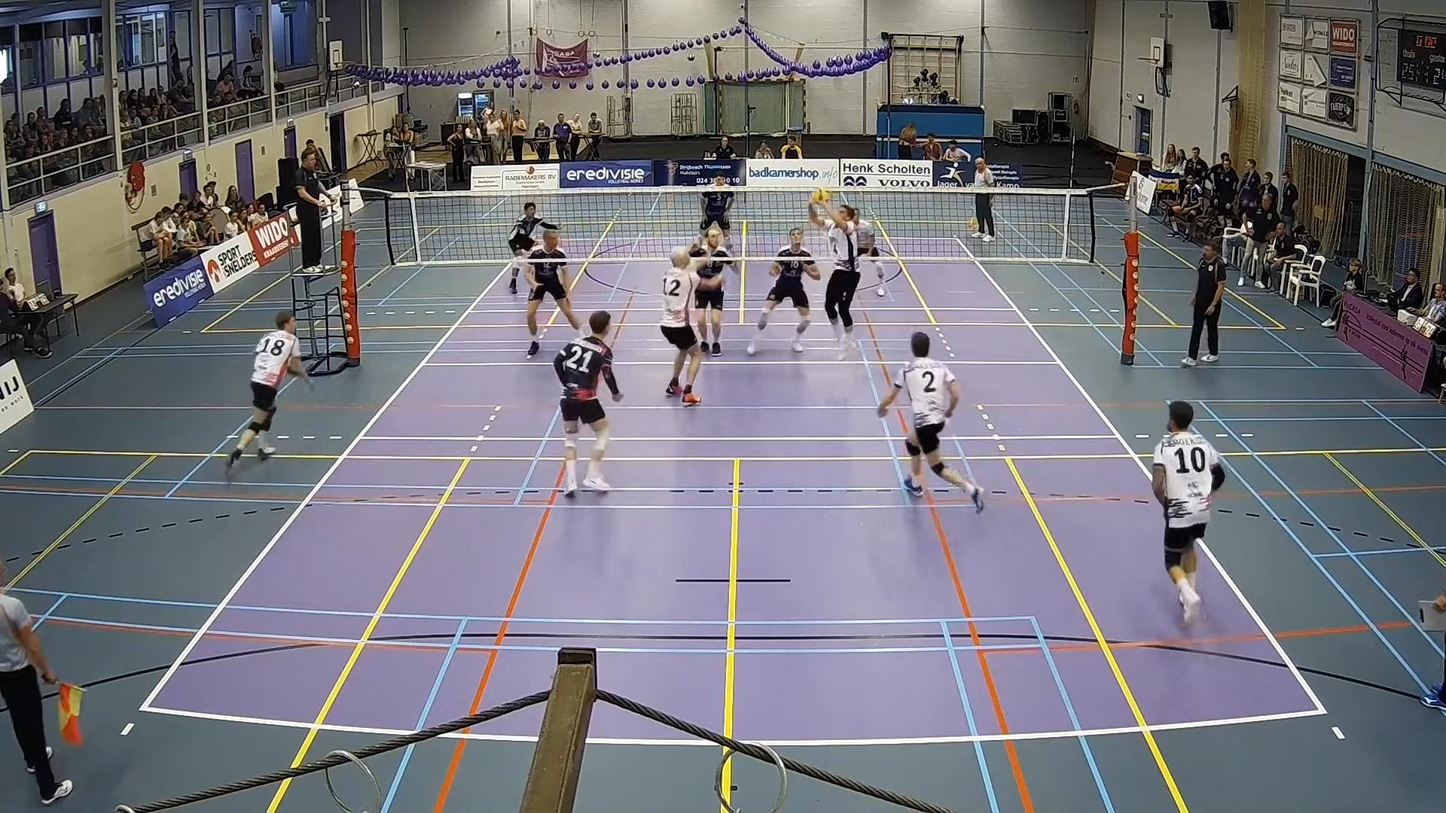alzata: (801, 199, 865, 366)
